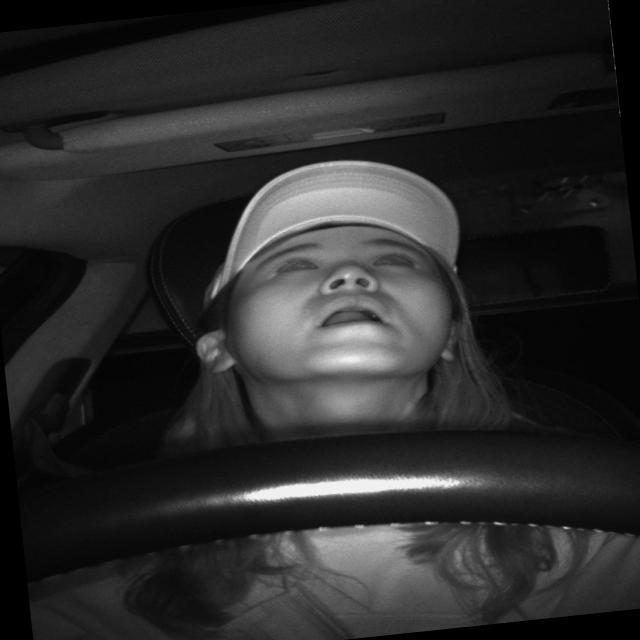Inattentive: (202, 158, 473, 380)
